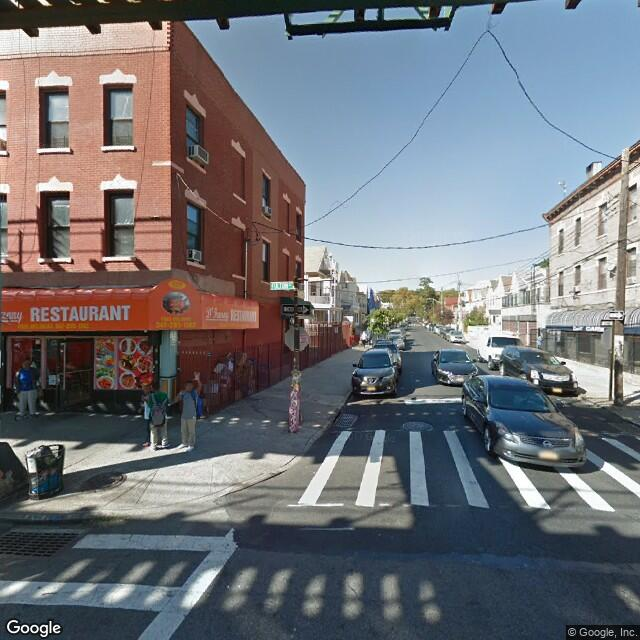litter: (1, 442, 31, 496)
